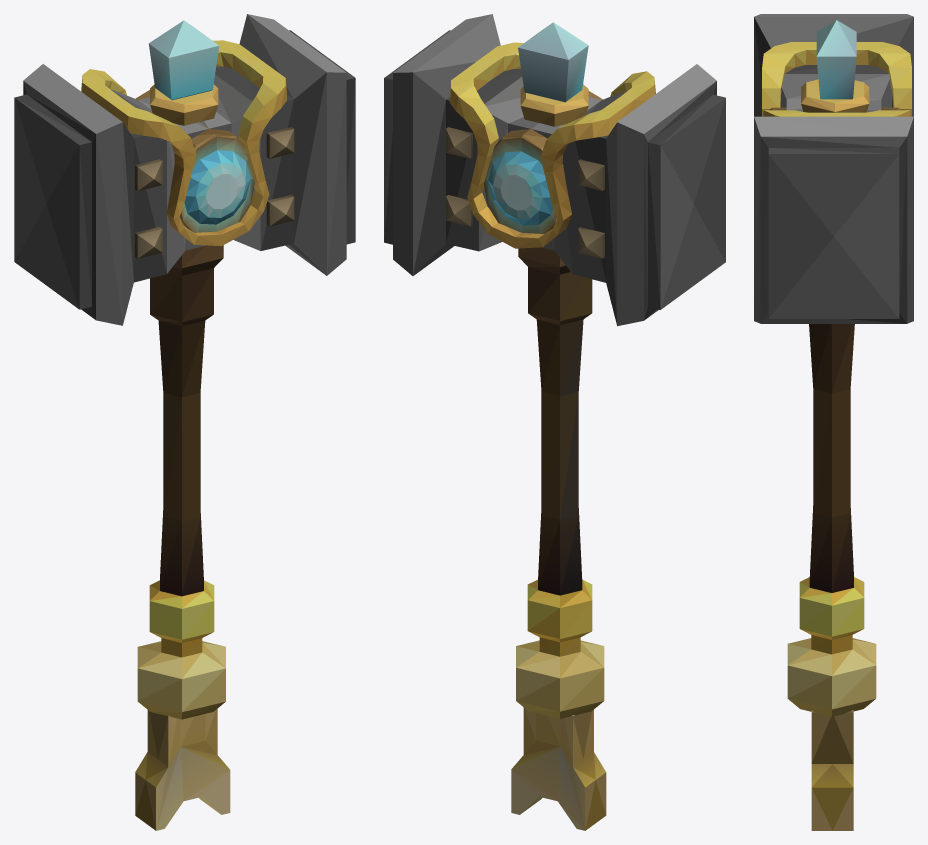
File: weapon_hammer_gold_3.fbx
The picture shows the model from 3 angles, left to right: view 1: azimuth 30°, elevation 25°; view 2: azimuth 150°, elevation 25°; view 3: azimuth 270°, elevation 25°; orthographic projection.
Parts seen in each view (by area): view 1: weapon_hammer_gold_3; view 2: weapon_hammer_gold_3; view 3: weapon_hammer_gold_3.
Part boxes in pixels (x1,y1,x2,y2): weapon_hammer_gold_3: (14,14,355,830); weapon_hammer_gold_3: (384,14,725,830); weapon_hammer_gold_3: (754,14,913,830).
Size of the model in its own units: 1.08 by 2.94 by 0.5371.
